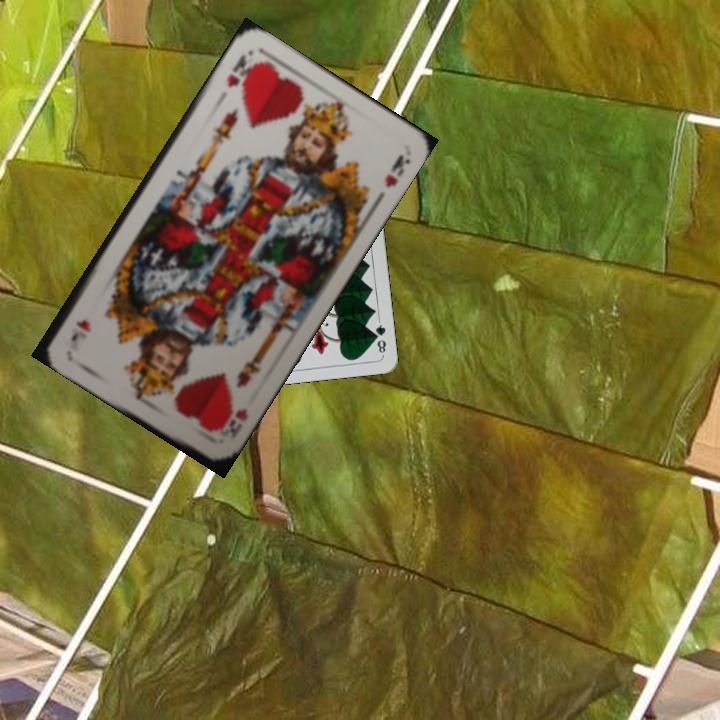G8: (371, 317, 389, 358)
HK: (212, 398, 251, 442), (222, 49, 259, 90)
